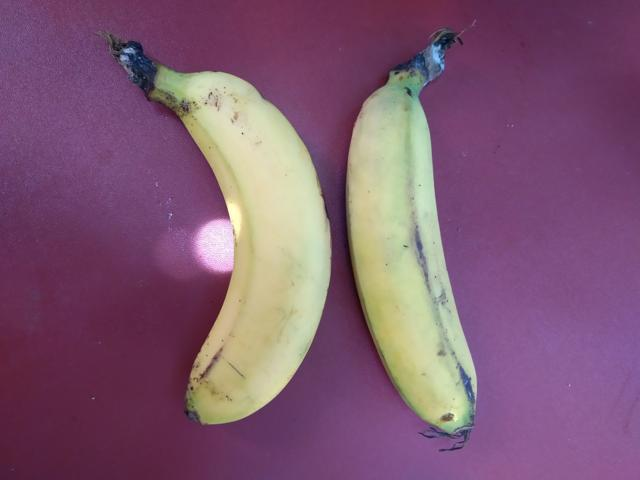freshripe: (144, 55, 362, 479)
ripe: (335, 52, 496, 466)
